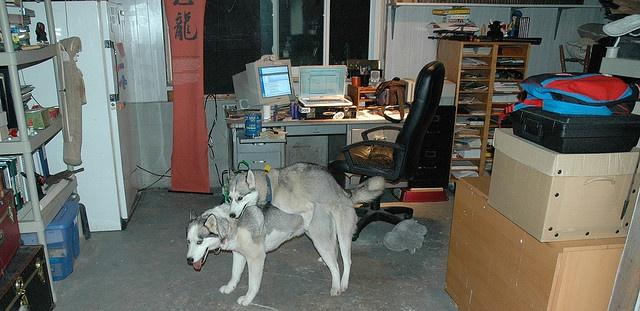Kursi: (326, 60, 443, 242)
